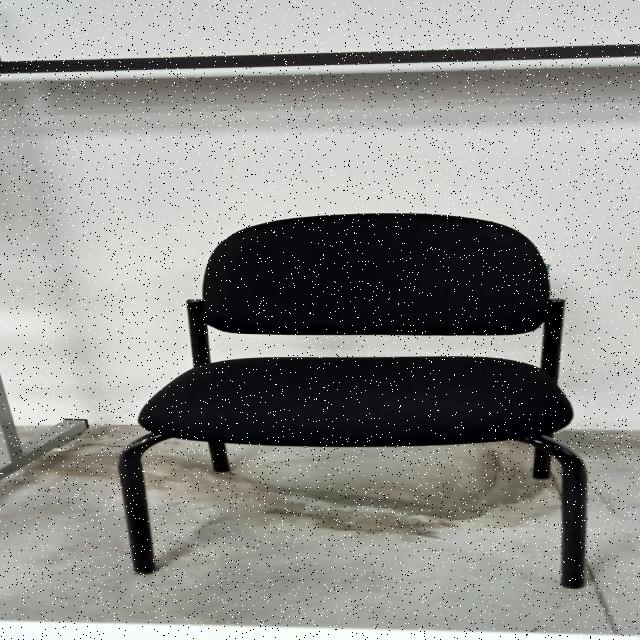bottle: (112, 211, 598, 592)
